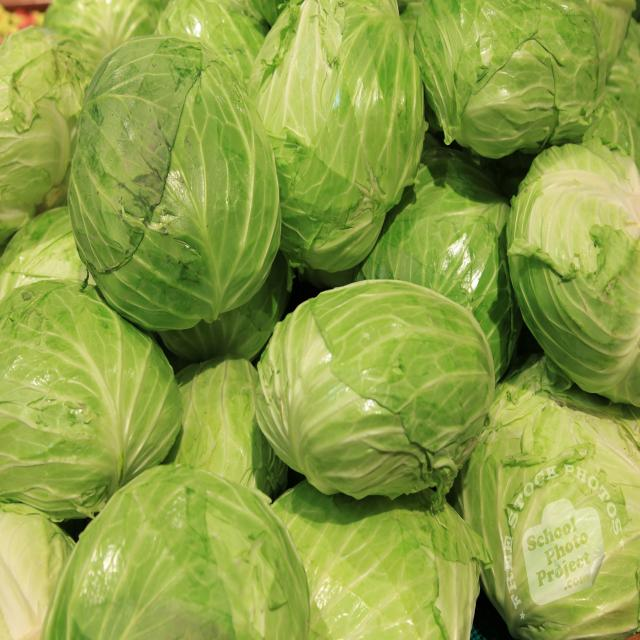cabbage: (64, 47, 268, 315), (257, 270, 488, 475), (76, 462, 308, 640), (4, 290, 177, 480), (270, 0, 410, 229), (424, 0, 620, 142), (514, 155, 640, 362)
